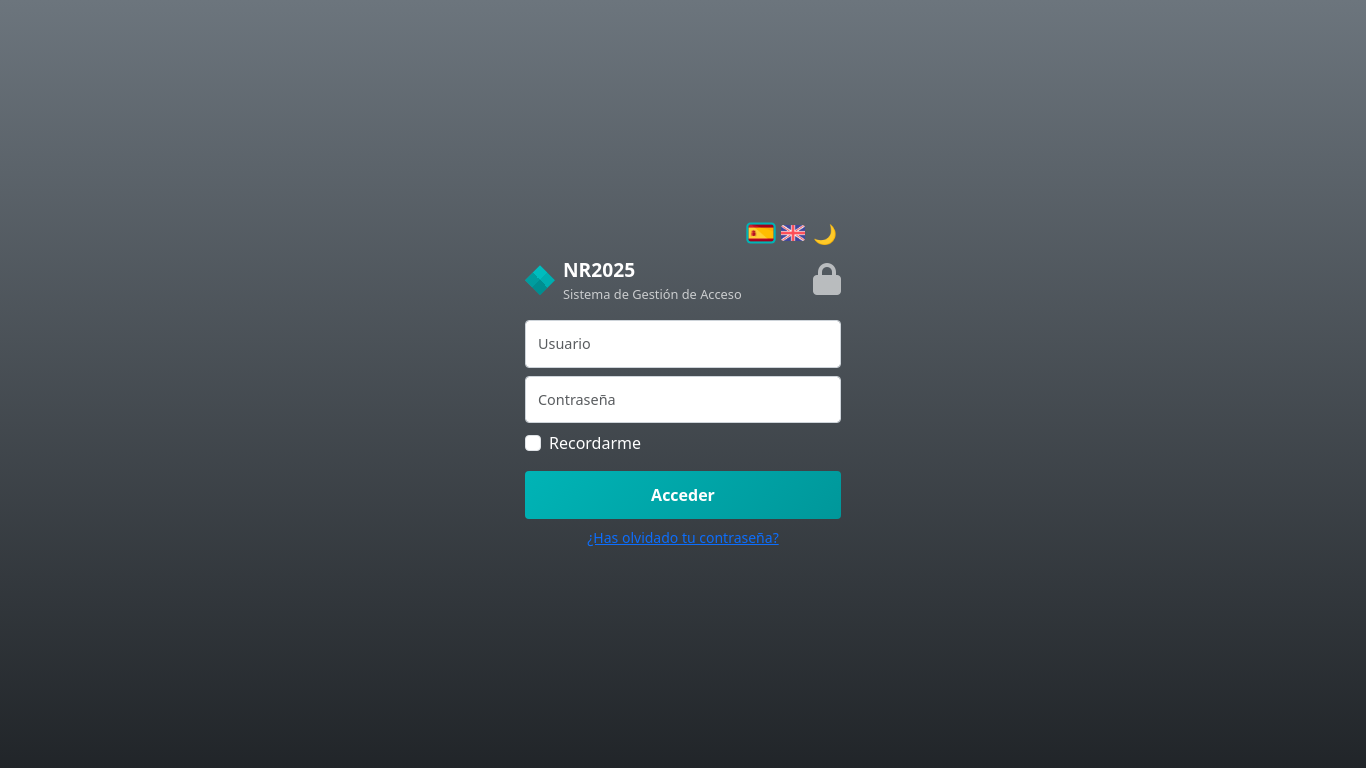
Test: Login.vue › valida usuario y contraseña vacíos
The width and height of the screenshot is (1366, 768).
Click the button "Acceder".
click(683, 496)  # box [525,472,841,520]
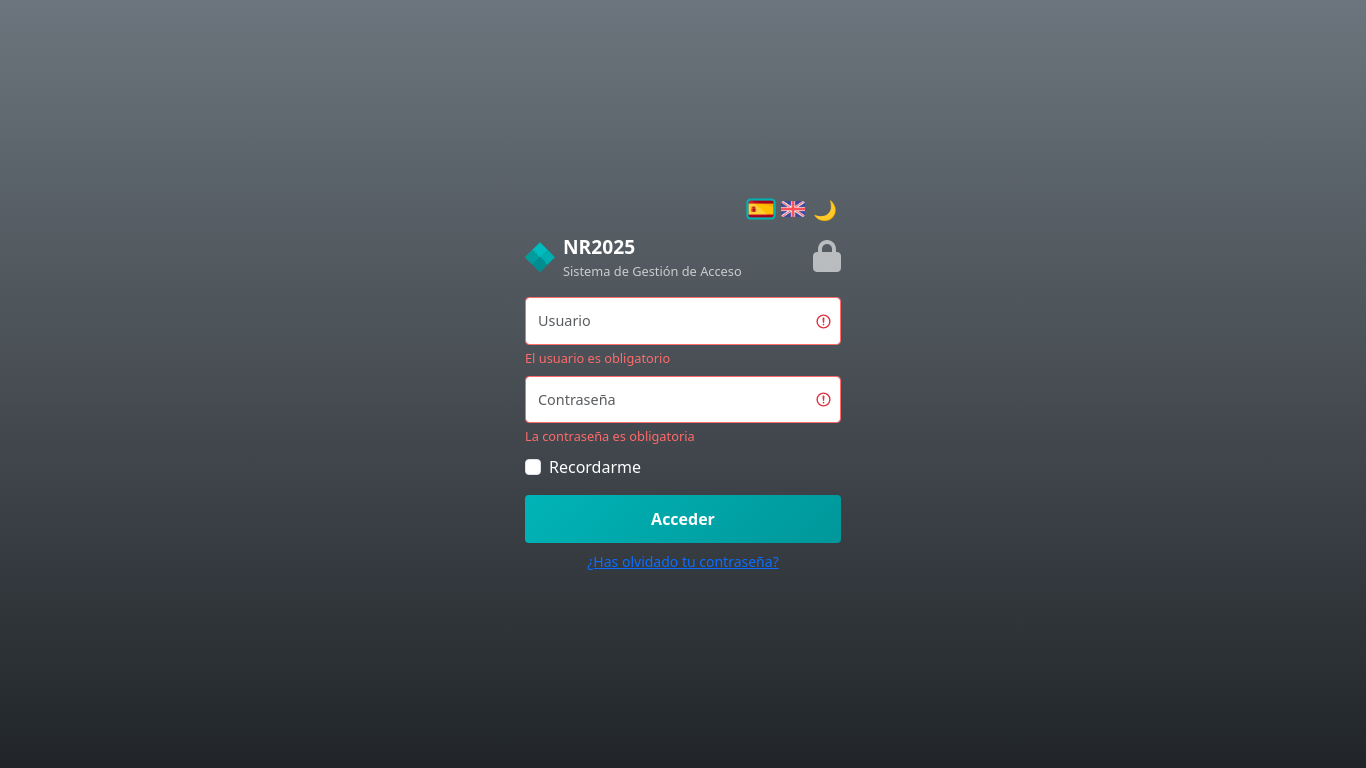
Now the text "El usuario es obligatorio" is shown, box [525,349,670,367]
Now the text "La contraseña es obligatoria" is shown, box [525,428,695,446]
